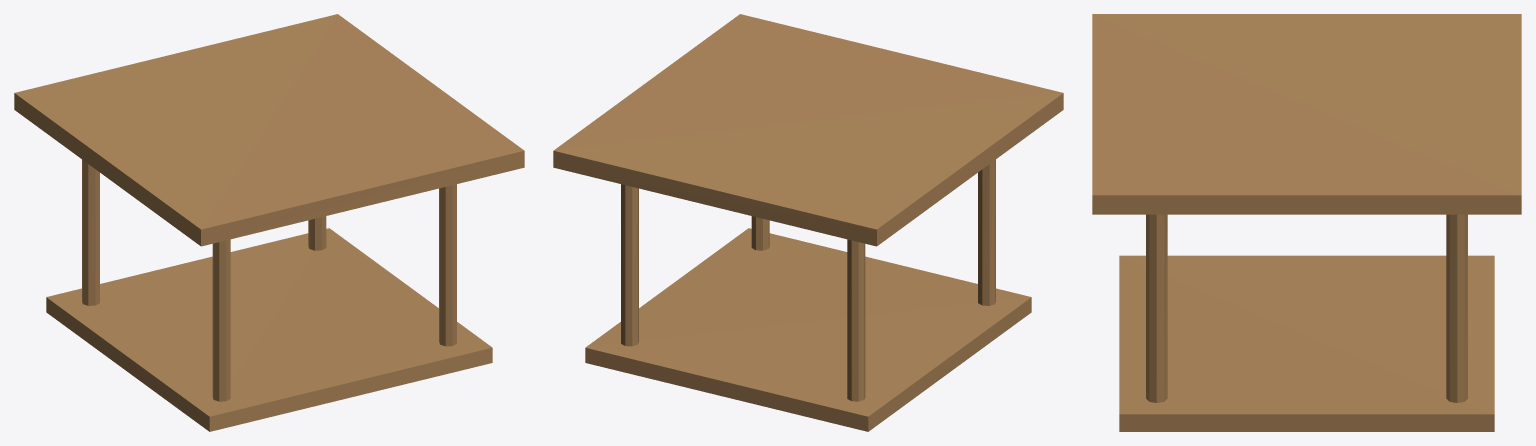
Rendered from Gazebo.glb.
3 renders of one model, left to right at view 1: azimuth 30°, elevation 25°; view 2: azimuth 150°, elevation 25°; view 3: azimuth 270°, elevation 25°, orthographic. The views are drawn at different scales.
Visible parts, largest first — view 1: gazebo-static-gazebo-teal, gazebo-static-gazebo-timber; view 2: gazebo-static-gazebo-teal, gazebo-static-gazebo-timber; view 3: gazebo-static-gazebo-teal, gazebo-static-gazebo-timber.
Boxes of the visible parts, left/top/right/bottom form: gazebo-static-gazebo-teal: left=14, top=14, right=524, bottom=246; gazebo-static-gazebo-timber: left=46, top=159, right=492, bottom=431; gazebo-static-gazebo-teal: left=553, top=14, right=1063, bottom=246; gazebo-static-gazebo-timber: left=585, top=159, right=1031, bottom=431; gazebo-static-gazebo-teal: left=1092, top=14, right=1521, bottom=214; gazebo-static-gazebo-timber: left=1119, top=214, right=1494, bottom=431.
Size of the model in its own units: 4 by 2.55 by 4.
